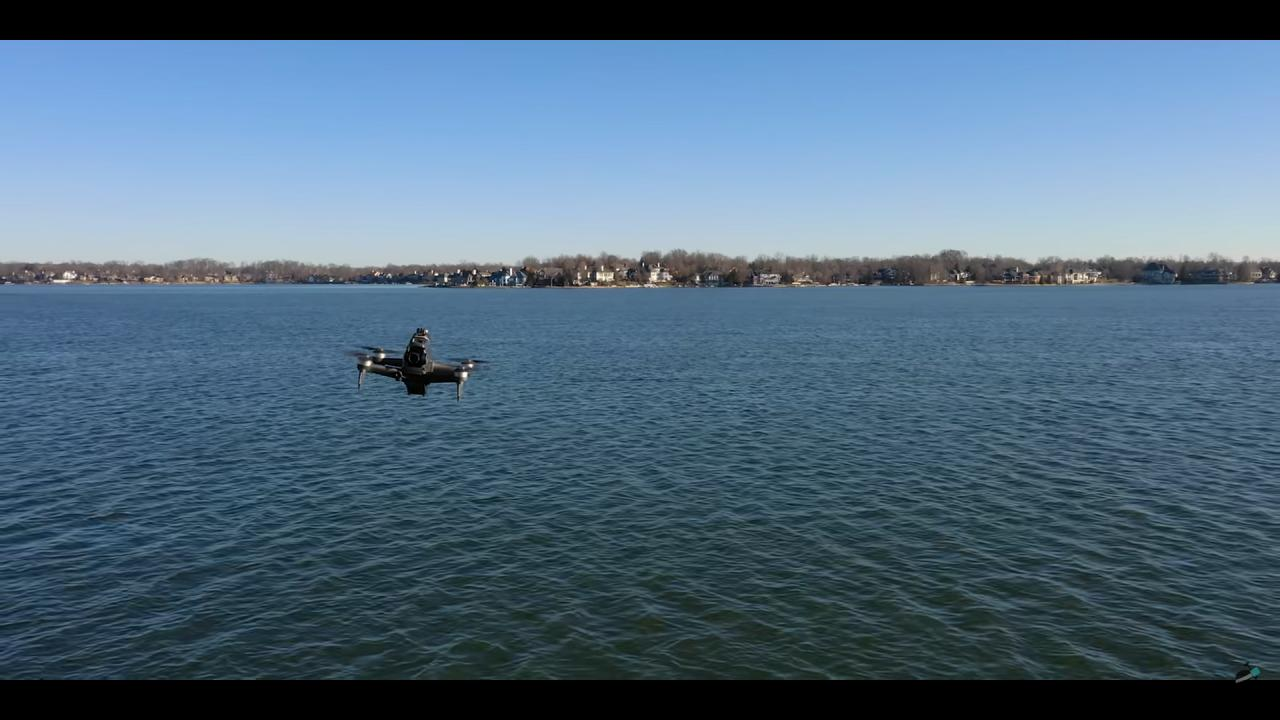Drone: (338, 314, 494, 417)
